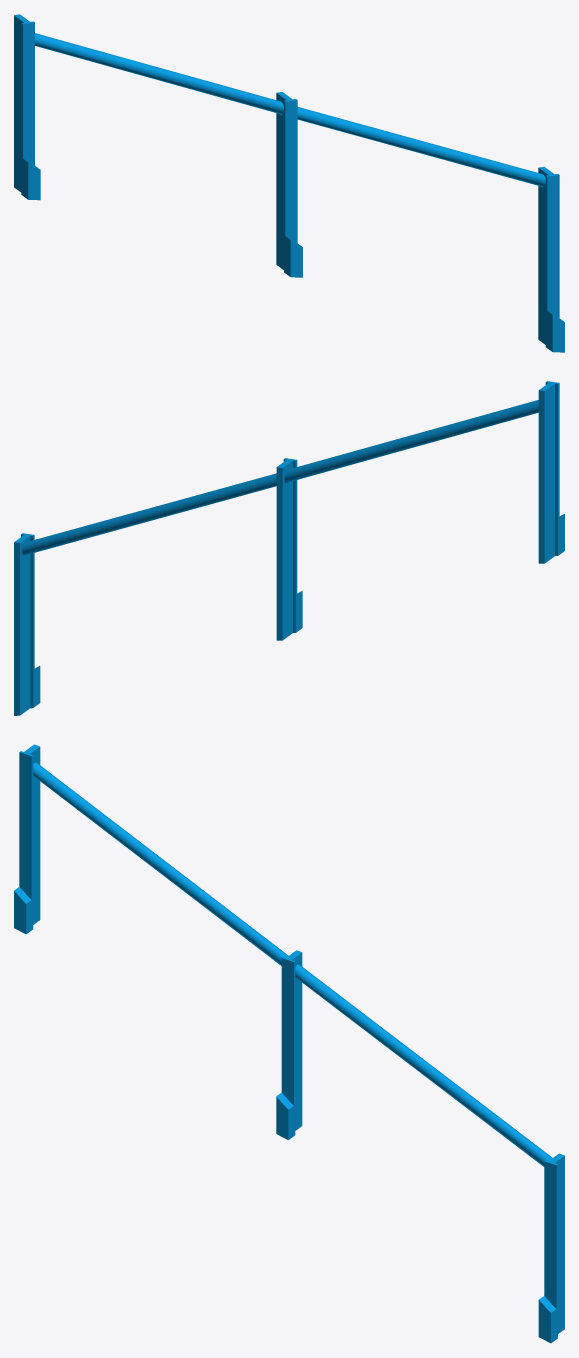
Rendered from Metal_Stairs_02B_Rail.fbx.
The picture shows the model from 3 angles, top to bottom: view 1: azimuth 30°, elevation 25°; view 2: azimuth 150°, elevation 25°; view 3: azimuth 330°, elevation 25°; orthographic projection.
Visible parts, largest first — view 1: Metal_Stairs_02B_Rail; view 2: Metal_Stairs_02B_Rail; view 3: Metal_Stairs_02B_Rail.
Boxes of the visible parts, bbox=[...] form: Metal_Stairs_02B_Rail: bbox=[14, 14, 564, 352]; Metal_Stairs_02B_Rail: bbox=[14, 381, 564, 715]; Metal_Stairs_02B_Rail: bbox=[14, 744, 564, 1343].
Bounding box in the file's own units: 297 × 241 × 16.95.
